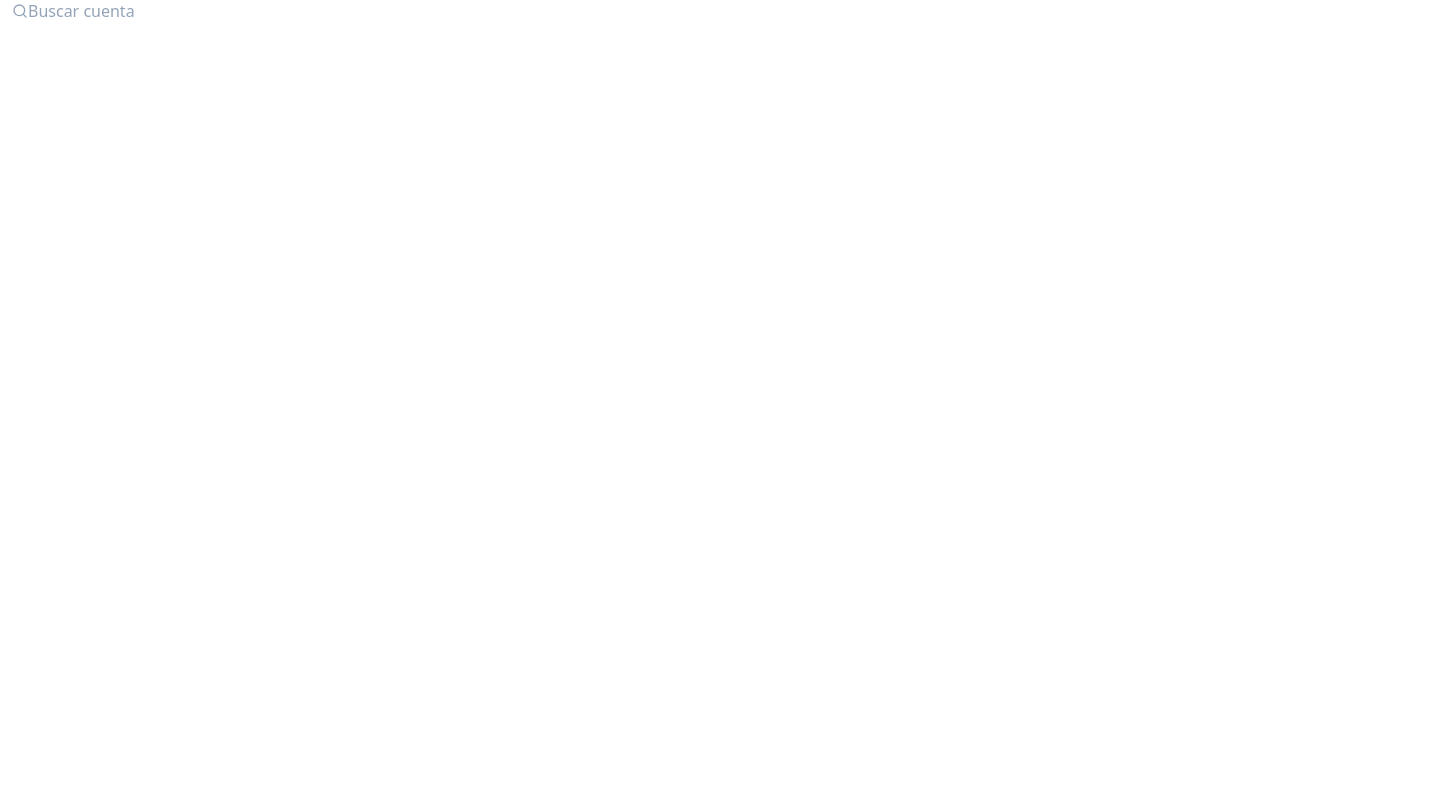
CuentaContableCombobox › busca por empresa y permite seleccionar con teclado
The width and height of the screenshot is (1440, 810).
Later steps or results of the test are not shown.
In the dropdown: (720, 11) [0,0,1439,22], type "material"
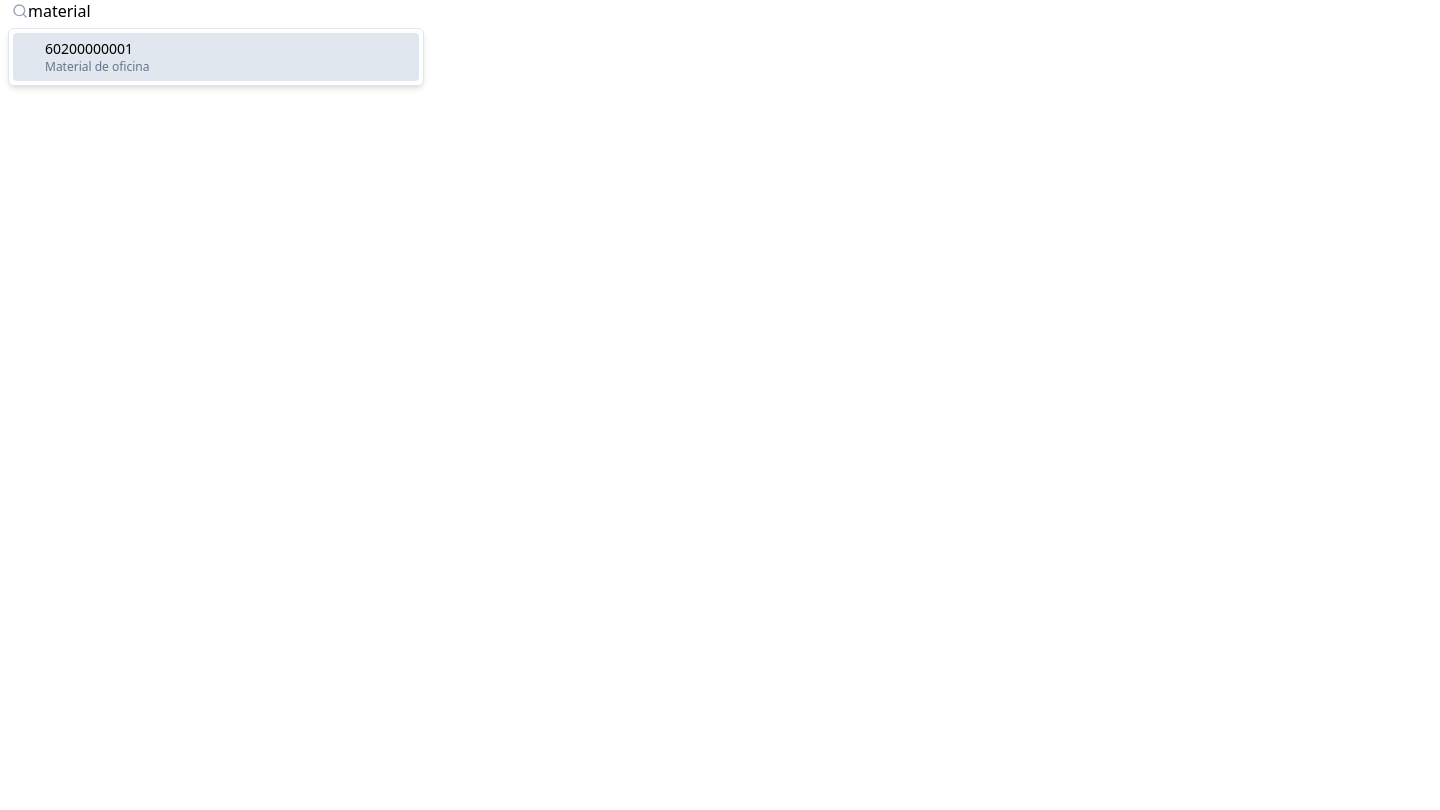
Now the text "Material de oficina" is shown, box [45,59,150,75]
